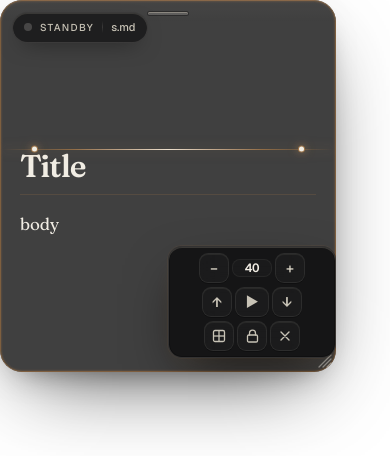
<TeleprompterView /> movable viewport › renders a Snap button and opens the snap popover
Click the button named "Snap" at (219, 336), box [204,321,234,351]
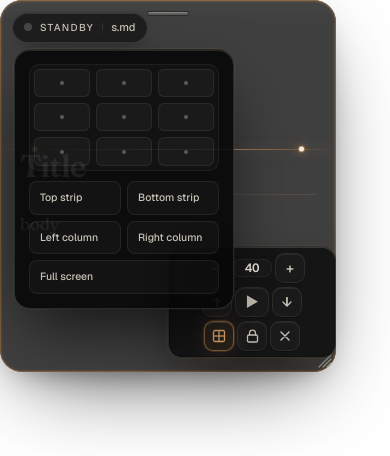
Check: the menu is shown, box [14,49,234,309]
